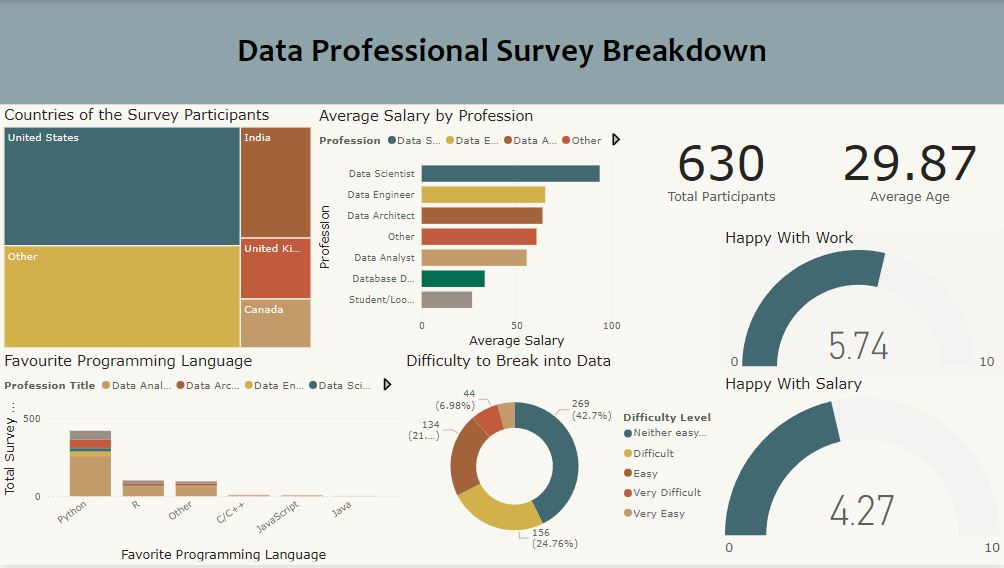

Layout of this report page (visuals, bound fields, positions):
{"tool":"powerbi","page":{"name":"Page 1","canvas":[1280,720],"ordinal":0},"visuals":[{"type":"textbox","box":[0,0,1280,133.2],"z":0},{"type":"card","fields":{"Values":["CountNonNull(Data Professional Survey.Unique ID)"]},"box":[796.5,133.4,245.7,157.2],"z":1000},{"type":"card","fields":{"Values":["Avg(Data Professional Survey.Q10 - Current Age)"]},"box":[1040.9,133.4,239.1,158.5],"z":2000},{"type":"gauge","title":"Happy With Work","fields":{"Y":["Avg(Data Professional Survey.Q6 - How Happy are you in your Current Position with the following? (Work/Life Balance))"],"MinValue":["Min(Data Professional Survey.Q6 - How Happy are you in your Current Position with the following? (Work/Life Balance))1"],"MaxValue":["Max(Data Professional Survey.Q6 - How Happy are you in your Current Position with the following? (Work/Life Balance))2"]},"box":[919.4,290.6,360.6,186.3],"z":3000},{"type":"gauge","title":"Happy With Salary","fields":{"Y":["Avg(Data Professional Survey.Q6 - How Happy are you in your Current Position with the following? (Salary))"],"MinValue":["Min(Data Professional Survey.Q6 - How Happy are you in your Current Position with the following? (Salary))"],"MaxValue":["Max(Data Professional Survey.Q6 - How Happy are you in your Current Position with the following? (Salary))"]},"box":[919.4,476.9,360.6,241.7],"z":4000},{"type":"donutChart","title":"Difficulty to Break into Data","fields":{"Category":["Data Professional Survey.Q7 - How difficult was it for you to break into Data?"],"Y":["CountNonNull(Data Professional Survey.Q7 - How difficult was it for you to break into Data?)"]},"box":[512.5,447.8,406.9,270.8],"z":5000},{"type":"treemap","title":"Countries of the Survey Participants","fields":{"Group":["Data Professional Survey.Q11 - Which Country do you live in?.1"],"Values":["CountNonNull(Data Professional Survey.Q11 - Which Country do you live in?.1)"]},"box":[0,133.4,401.6,314.4],"z":6000},{"type":"barChart","title":"Average Salary by Profession","fields":{"Category":["Data Professional Survey.Q1 - Which Title Best Fits your Current Role?.1"],"Series":["Data Professional Survey.Q1 - Which Title Best Fits your Current Role?.1"],"Y":["Avg(Data Professional Survey.Average Salary)"]},"box":[401.6,134.7,395,313.1],"z":7000},{"type":"columnChart","title":"Favourite Programming Language","fields":{"Category":["Data Professional Survey.Q5 - Favorite Programming Language.1"],"Y":["CountNonNull(Data Professional Survey.Unique ID)"],"Series":["Data Professional Survey.Q1 - Which Title Best Fits your Current Role?.1"]},"box":[0,447.8,512.5,273.4],"z":8000}]}

Visuals, with their boxes in screenshot pixels (x1, y1, x2, y2), scaled from the page's 1280x720 canvas onto the 1004x568 screenshot:
textbox: <bbox>0, 0, 1003, 105</bbox>
card - CountNonNull(Data Professional Survey.Unique ID): <bbox>625, 105, 817, 229</bbox>
card - Avg(Data Professional Survey.Q10 - Current Age): <bbox>816, 105, 1003, 230</bbox>
"Happy With Work" gauge: <bbox>721, 229, 1003, 376</bbox>
"Happy With Salary" gauge: <bbox>721, 376, 1003, 567</bbox>
"Difficulty to Break into Data" donutChart: <bbox>402, 353, 721, 567</bbox>
"Countries of the Survey Participants" treemap: <bbox>0, 105, 315, 353</bbox>
"Average Salary by Profession" barChart: <bbox>315, 106, 625, 353</bbox>
"Favourite Programming Language" columnChart: <bbox>0, 353, 402, 567</bbox>
